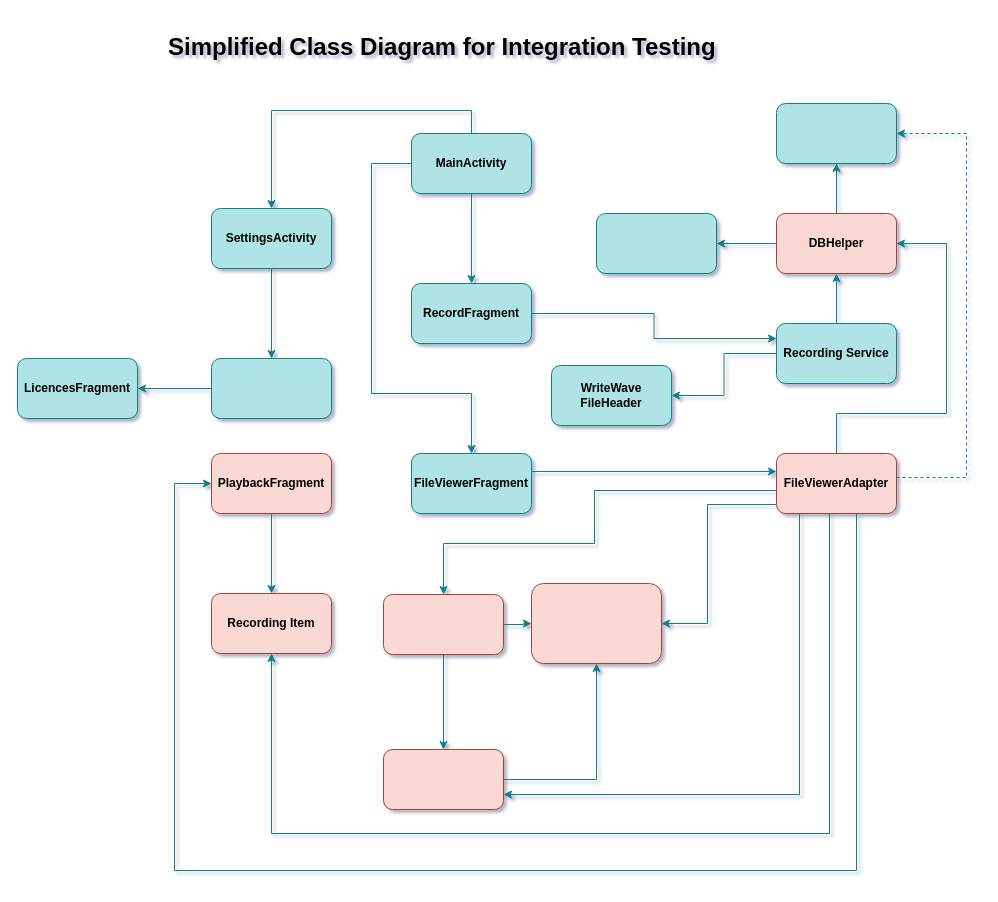
Image size: 998x902. Some labels were removed from this diagram. Here are the shapes that lost their labels. From the top down, the centre of each, then its label:
At [836,133]: "OnDataBase ChangedListener <Interface>".
At [656,243]: "DBHelperItem".
At [271,388]: "SettingsFragment".
At [443,624]: "Asyncronus Transcription".
At [596,623]: "CustomAlertDialog ForExtractedTest".
At [443,779]: "Asyncronus Refreshing".
